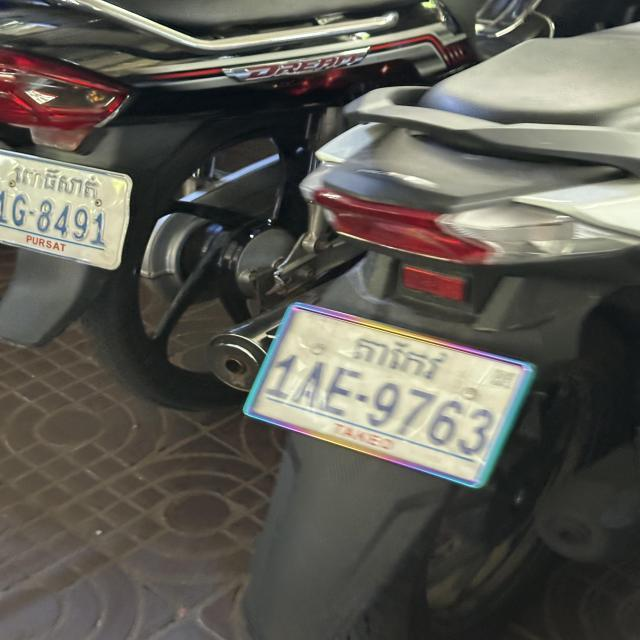Pursat: (14, 166, 100, 200)
Takeo: (351, 335, 452, 384)
